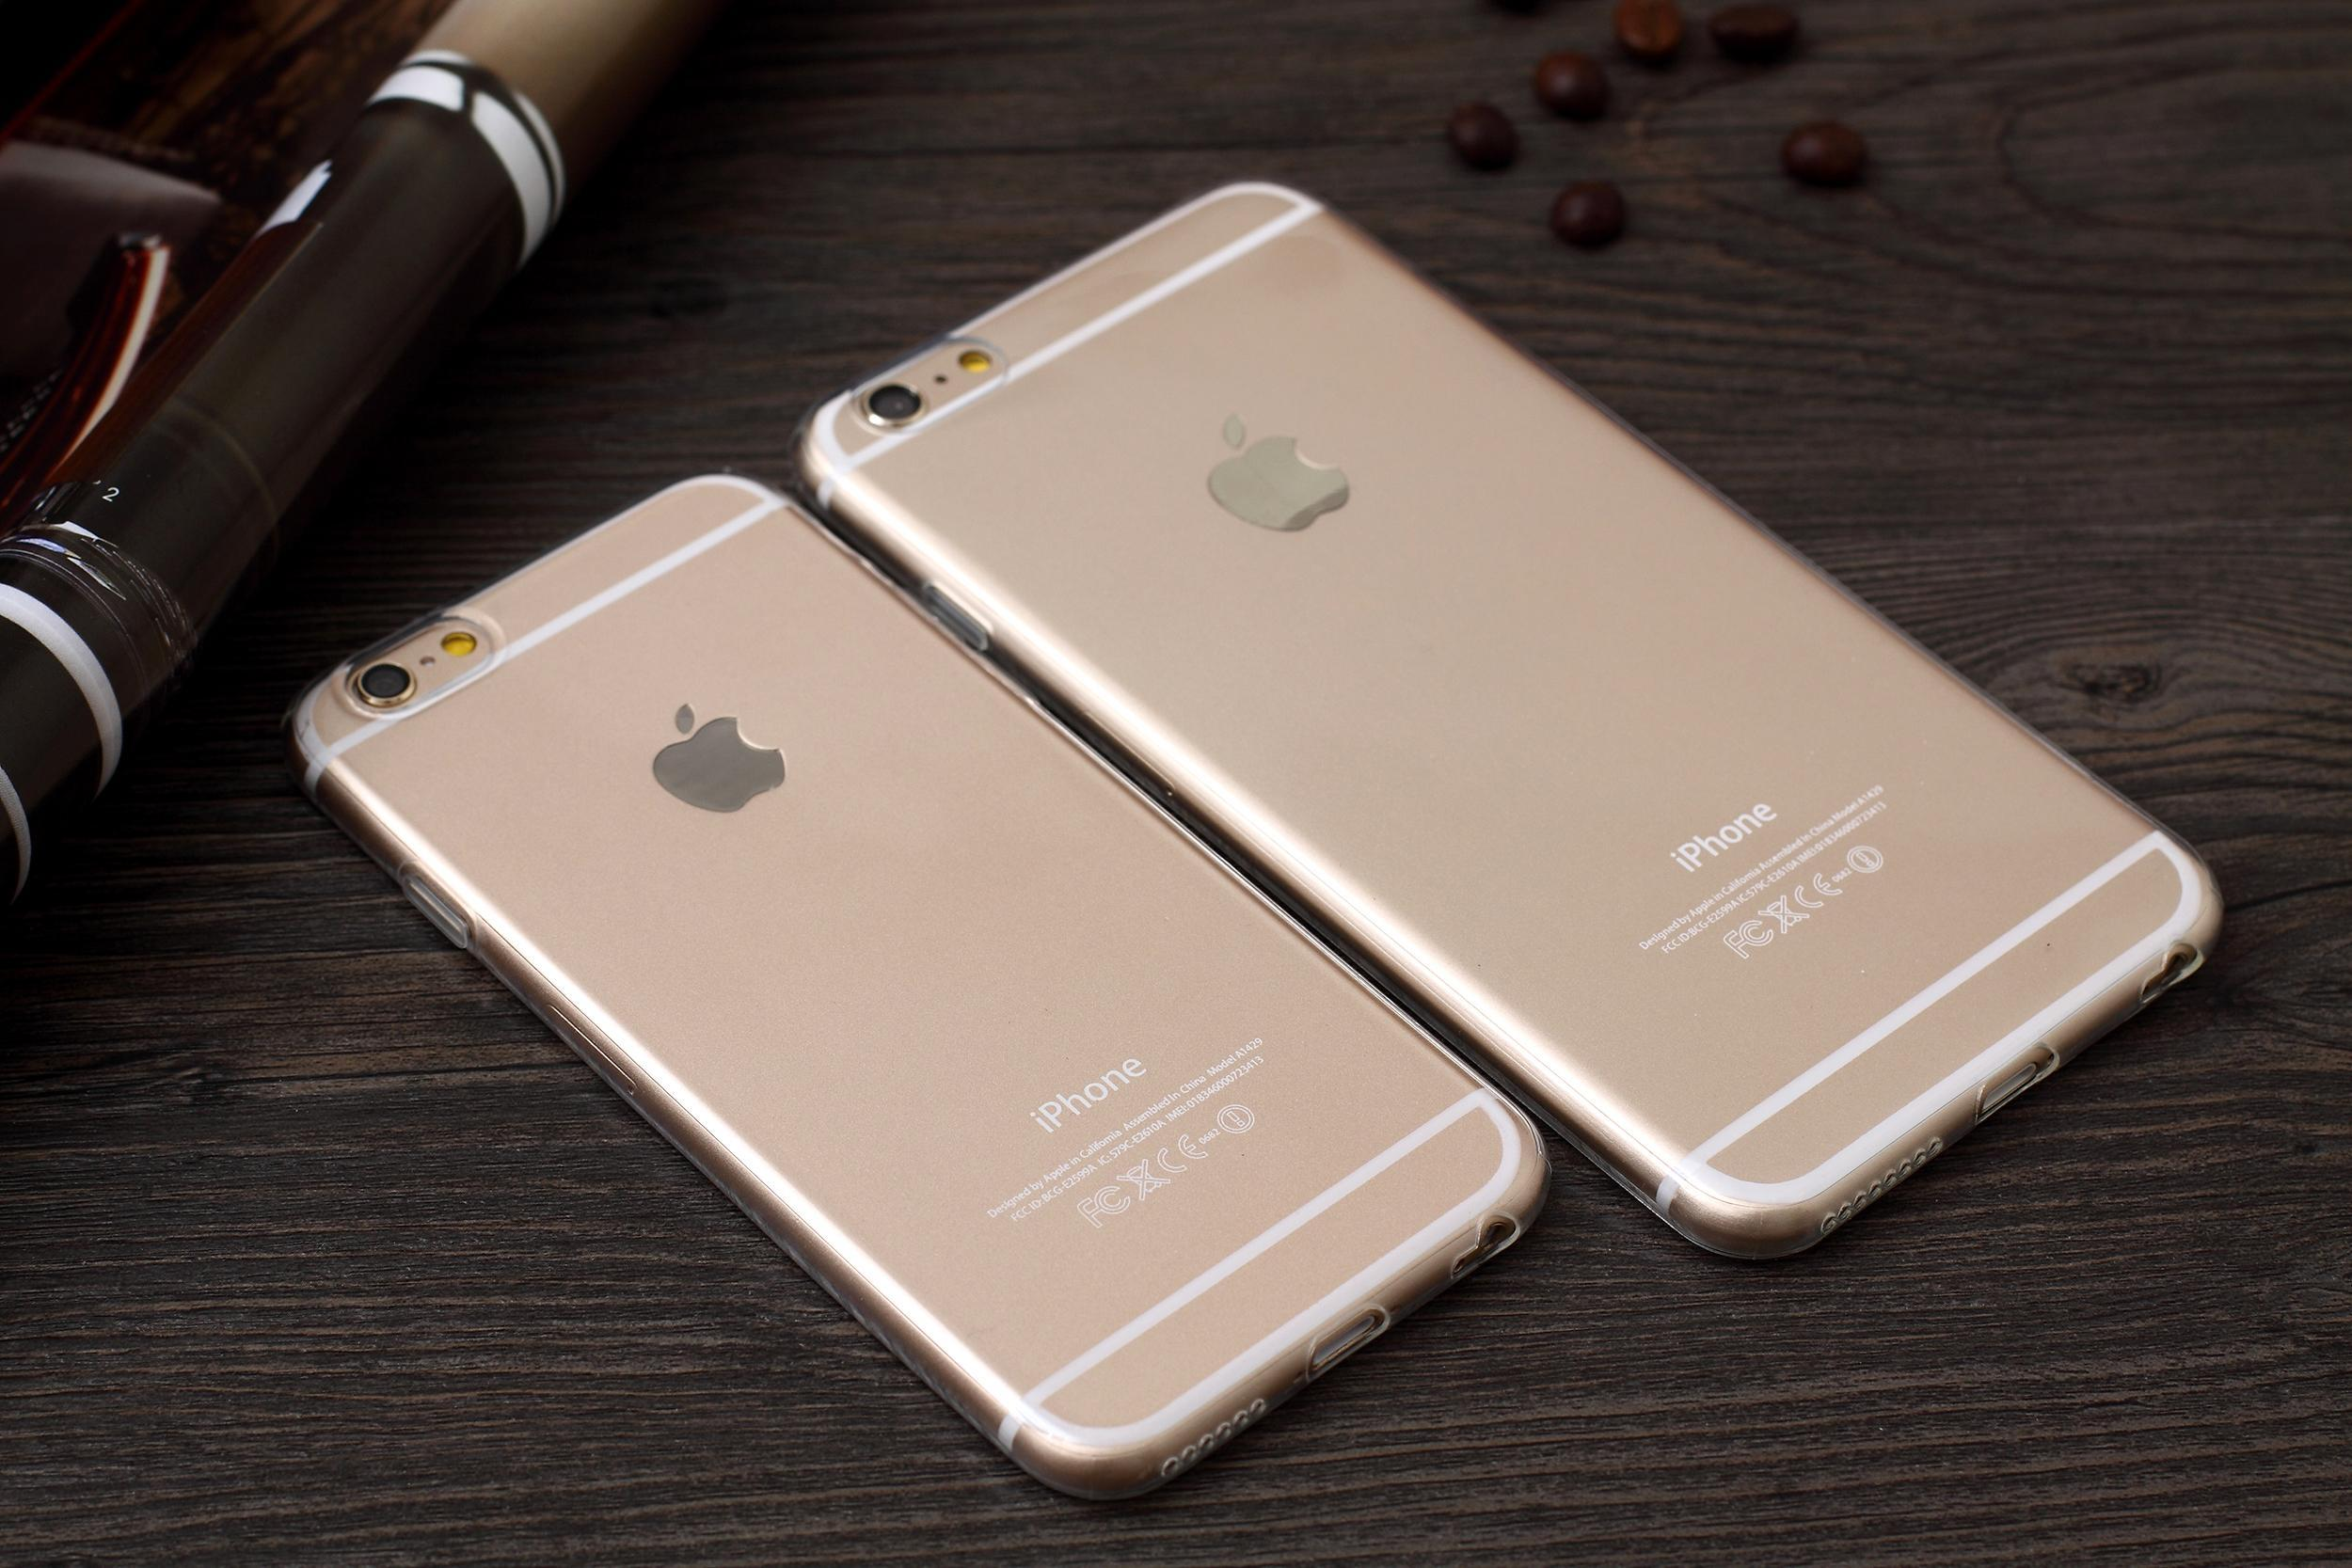phone: (871, 252, 1986, 1116), (334, 556, 1220, 1319)
